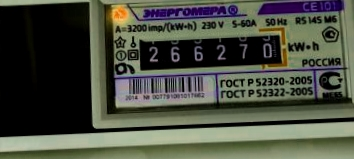0: (260, 41, 273, 59)
2: (145, 44, 159, 63), (214, 42, 226, 61)
6: (168, 44, 181, 63), (191, 44, 204, 63)
7: (237, 41, 249, 60)
screen: (128, 24, 293, 80)
